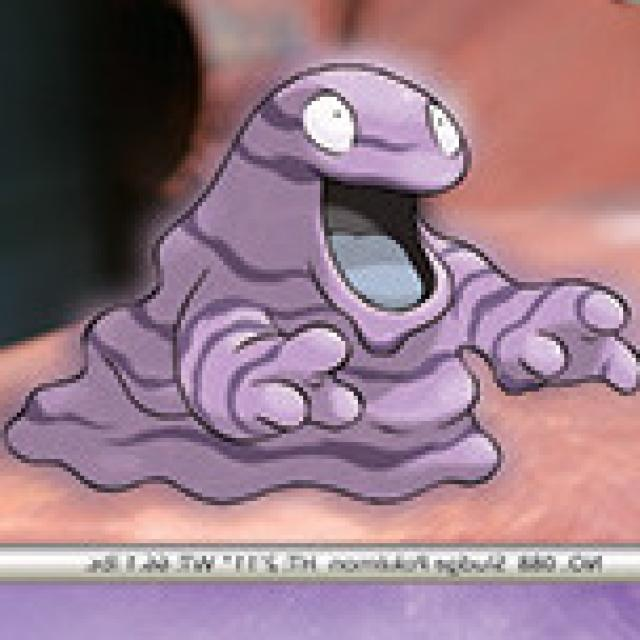Grimer: (104, 66, 582, 482)
